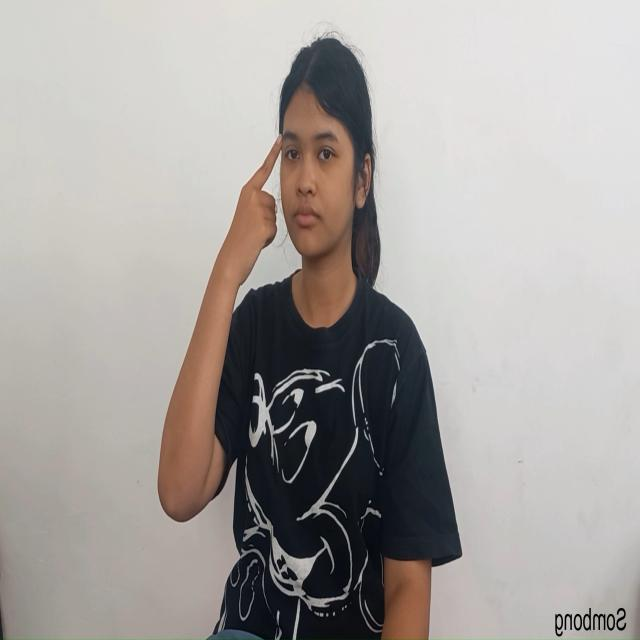Sombong -BISINDO-: (156, 129, 284, 527)
